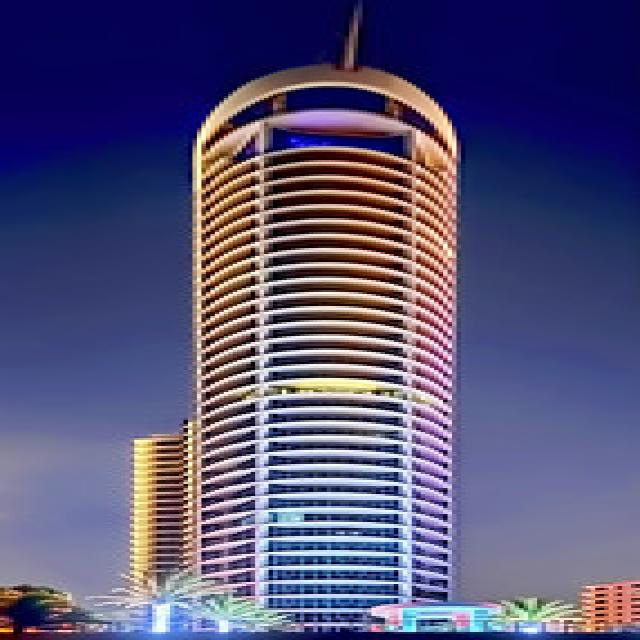building: (117, 57, 466, 633)
